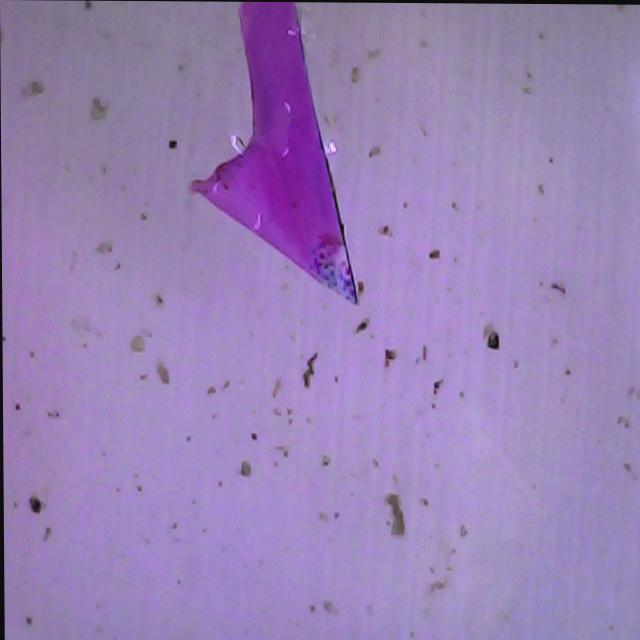microplastic: (153, 0, 360, 333)
